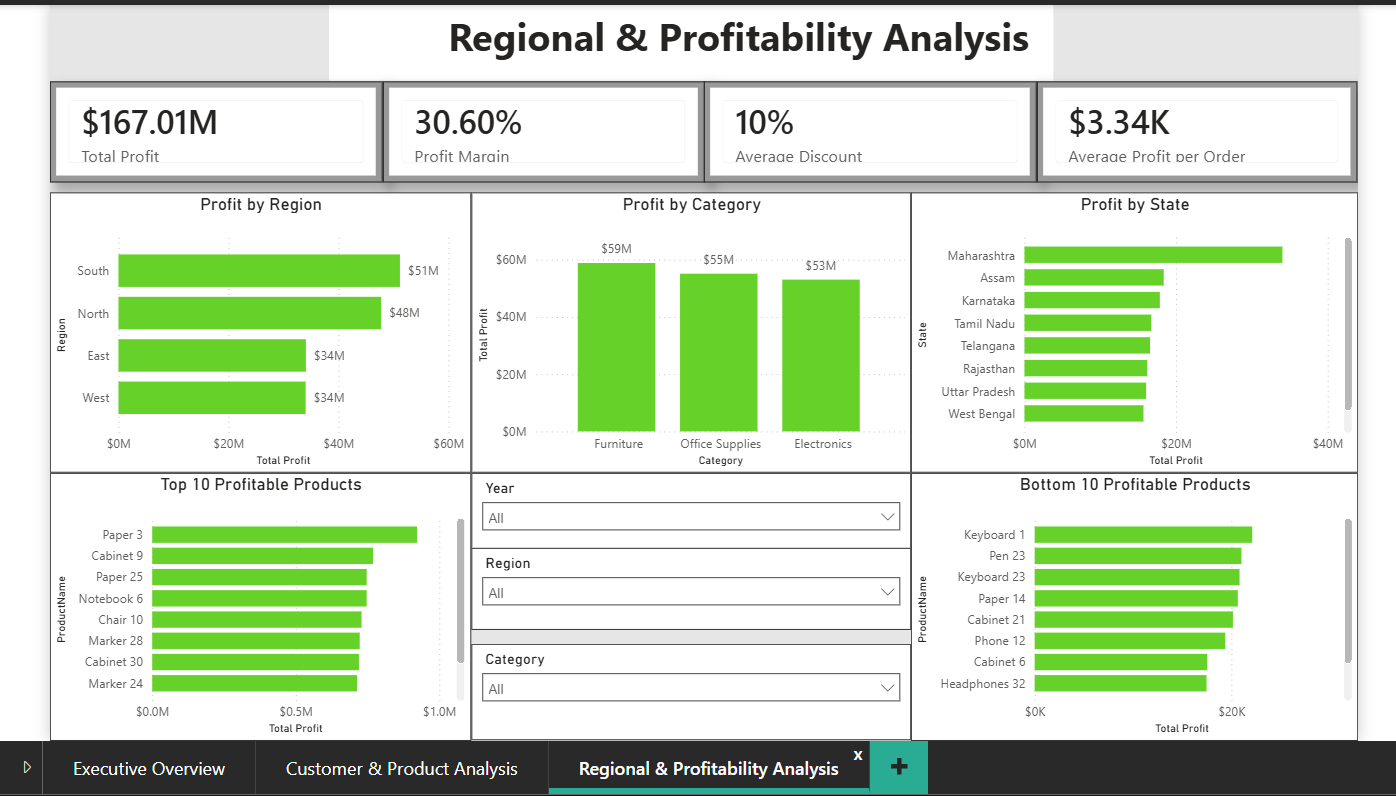

Layout of this report page (visuals, bound fields, positions):
{"tool":"powerbi","page":{"name":"Regional  & Profitability Analysis","canvas":[1280,720],"ordinal":2},"visuals":[{"type":"textbox","box":[272.6,0,708.6,74.2],"z":0},{"type":"cardVisual","fields":{"Data":["sales.Total Profit"]},"box":[0,74.2,325.6,98.4],"z":1000},{"type":"cardVisual","fields":{"Data":["sales.Profit Margin"]},"box":[325.6,74.2,315,98.4],"z":2000},{"type":"cardVisual","fields":{"Data":["products.Average Discount"]},"box":[640.5,74.2,325.6,98.4],"z":3000},{"type":"cardVisual","fields":{"Data":["sales.Average Profit per Order"]},"box":[966.1,74.2,313.4,98.4],"z":4000},{"type":"clusteredBarChart","title":"Profit by Region","fields":{"Category":["customers.Region"],"Y":["sales.Total Profit"]},"box":[0,183.2,411.9,274.1],"z":5000},{"type":"clusteredColumnChart","title":" Profit by Category","fields":{"Y":["sales.Total Profit"],"Category":["products.Category"]},"box":[411.9,183.2,430,274.1],"z":6000},{"type":"clusteredBarChart","title":" Profit by State","fields":{"Category":["customers.State"],"Y":["sales.Total Profit"]},"box":[841.9,183.2,437.6,274.1],"z":7000},{"type":"clusteredBarChart","title":"Top 10 Profitable Products","fields":{"Category":["products.ProductName"],"Y":["sales.Total Profit"]},"box":[0,457.3,411.9,262],"z":8000},{"type":"clusteredBarChart","title":"Bottom 10 Profitable Products","fields":{"Category":["products.ProductName"],"Y":["sales.Total Profit"]},"box":[841.9,457.3,437.6,262],"z":9000},{"type":"slicer","fields":{"Values":["sales.OrderDate.Variation.Date Hierarchy.Year"]},"box":[411.9,457.3,430,74.2],"z":10000},{"type":"slicer","fields":{"Values":["customers.Region"]},"box":[411.9,531.5,430,80.3],"z":11000},{"type":"slicer","fields":{"Values":["products.Category"]},"box":[411.9,625.4,430,93.9],"z":12000}]}

Visuals, with their boxes on the page's 1280x720 design canvas (x1, y1, x2, y2). These are canvas units, not pixel positions in the 1396x796 screenshot, which may show the page scaled, cropped or inside an application window:
textbox: region(273, 0, 981, 74)
cardVisual - sales.Total Profit: region(0, 74, 326, 173)
cardVisual - sales.Profit Margin: region(326, 74, 641, 173)
cardVisual - products.Average Discount: region(640, 74, 966, 173)
cardVisual - sales.Average Profit per Order: region(966, 74, 1280, 173)
"Profit by Region" clusteredBarChart: region(0, 183, 412, 457)
" Profit by Category" clusteredColumnChart: region(412, 183, 842, 457)
" Profit by State" clusteredBarChart: region(842, 183, 1280, 457)
"Top 10 Profitable Products" clusteredBarChart: region(0, 457, 412, 719)
"Bottom 10 Profitable Products" clusteredBarChart: region(842, 457, 1280, 719)
slicer - sales.OrderDate.Variation.Date Hierarchy.Year: region(412, 457, 842, 532)
slicer - customers.Region: region(412, 532, 842, 612)
slicer - products.Category: region(412, 625, 842, 719)
